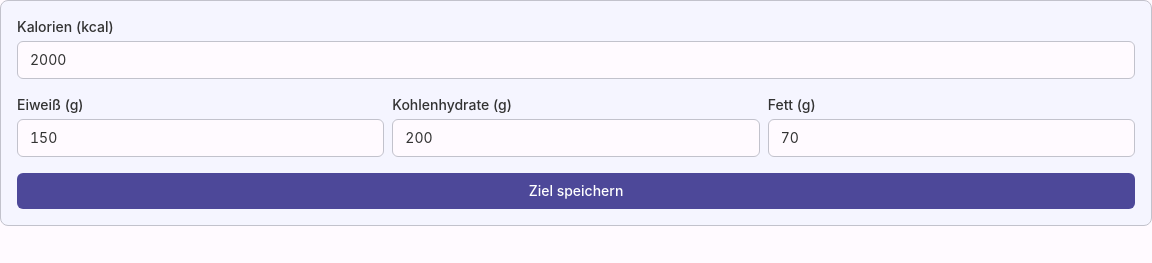
NutritionGoalForm › validates that macros are non-negative
Expected: the field showing "2000" is shown, [17,41,1135,79]
Replace the text in the field labelled "Eiweiß (g)" with "-10" at [201, 138], box [17,119,384,157]
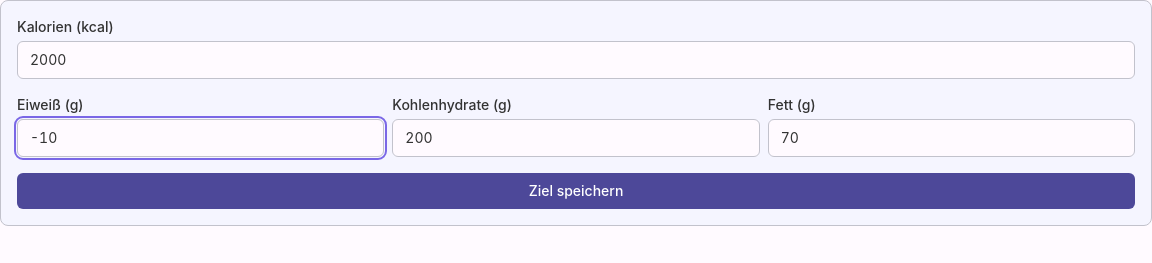
Click the button "Ziel speichern" at [576, 191], box [17,173,1135,209]
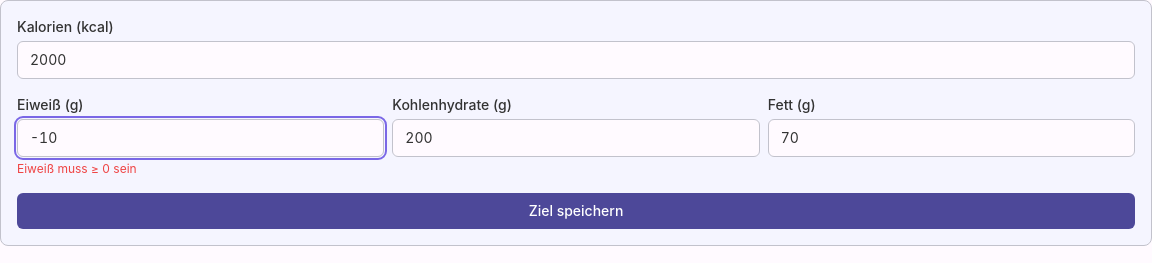
Expected: the text "Eiweiß muss ≥ 0 sein" is shown, [17,161,137,176]
